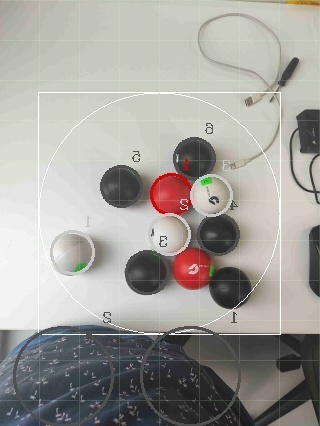Pelota blanca: (197, 12, 286, 94), (47, 230, 97, 278), (146, 212, 193, 256), (191, 172, 236, 216), (271, 398, 320, 425)
Pelota negra: (2, 323, 276, 425), (125, 249, 172, 296), (173, 134, 217, 182), (98, 164, 145, 208), (207, 265, 252, 310), (197, 214, 241, 256)
Pelota roja: (149, 172, 193, 216), (173, 246, 214, 291)
